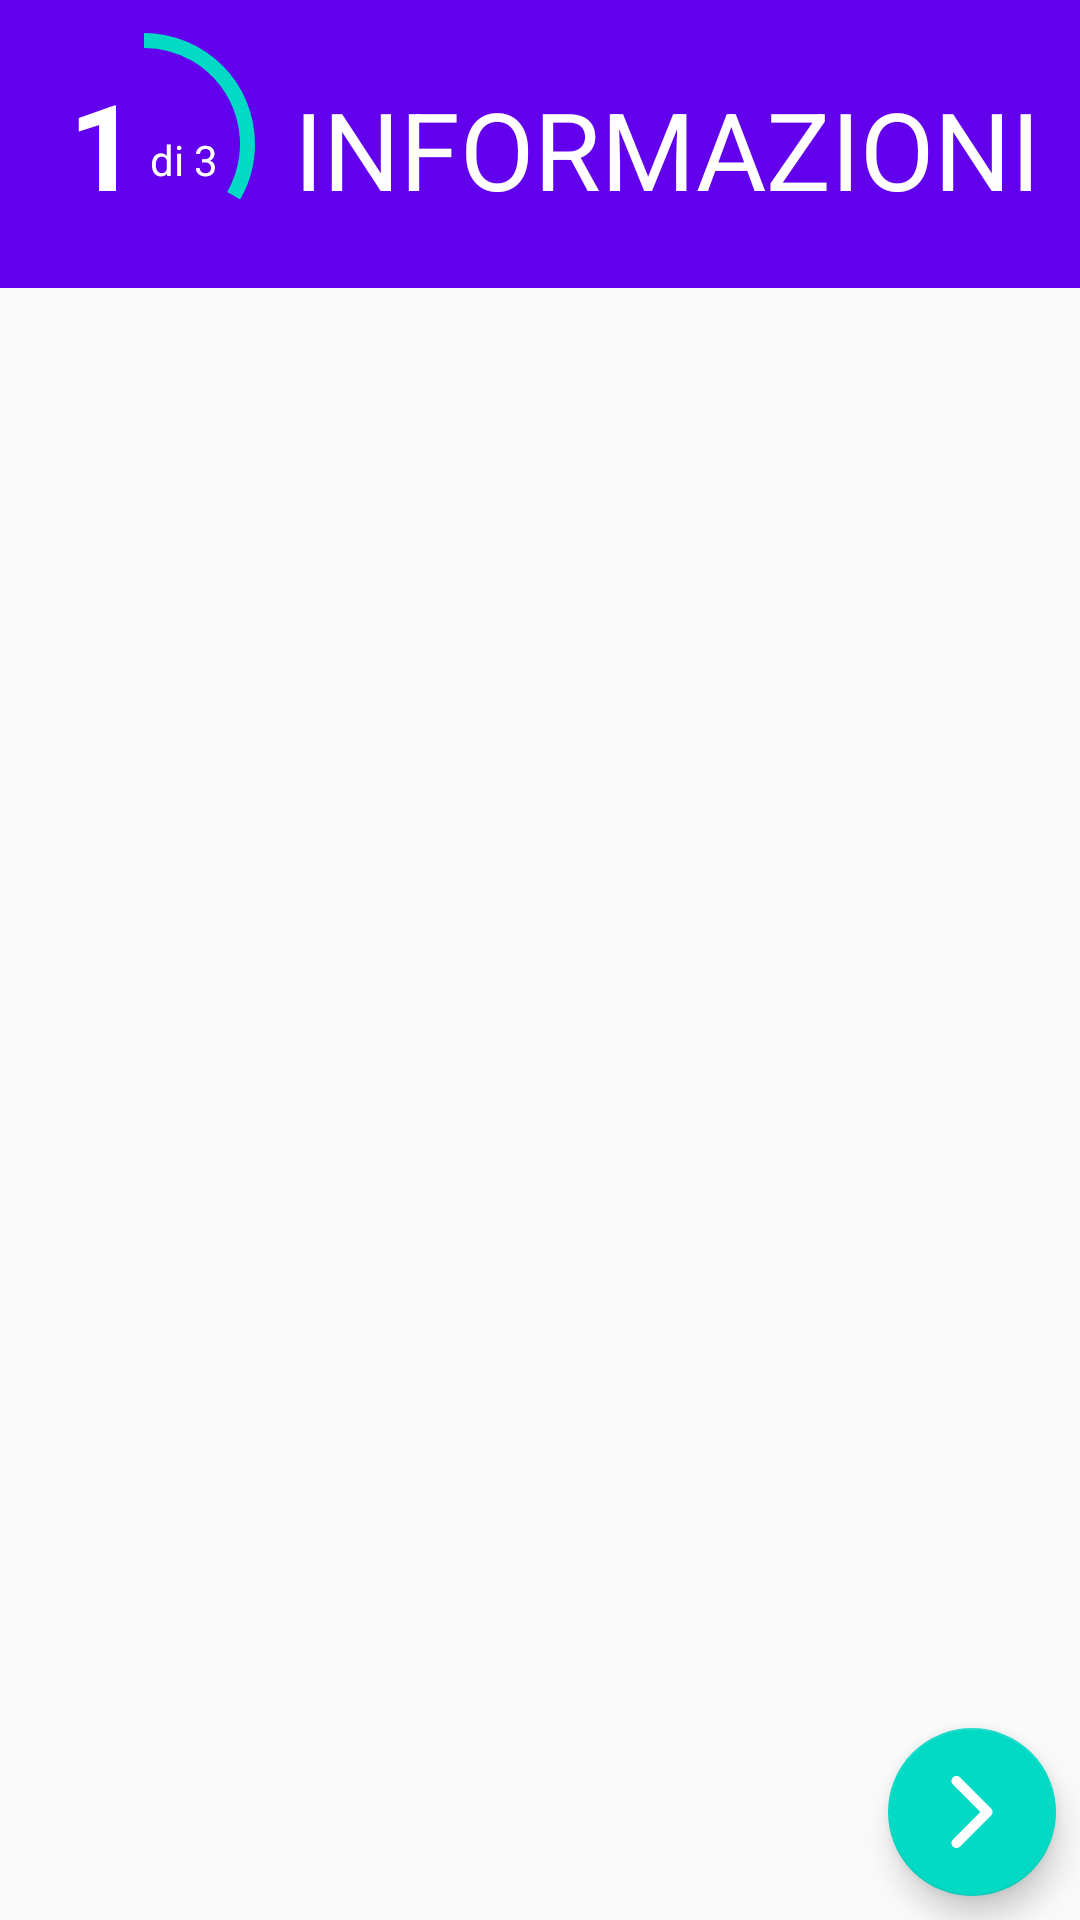

Screen size 1080 × 1920. Icon name, then its box in pixels as (x1, y1, x2, y2):
arrow: (888, 1728, 1056, 1896)
